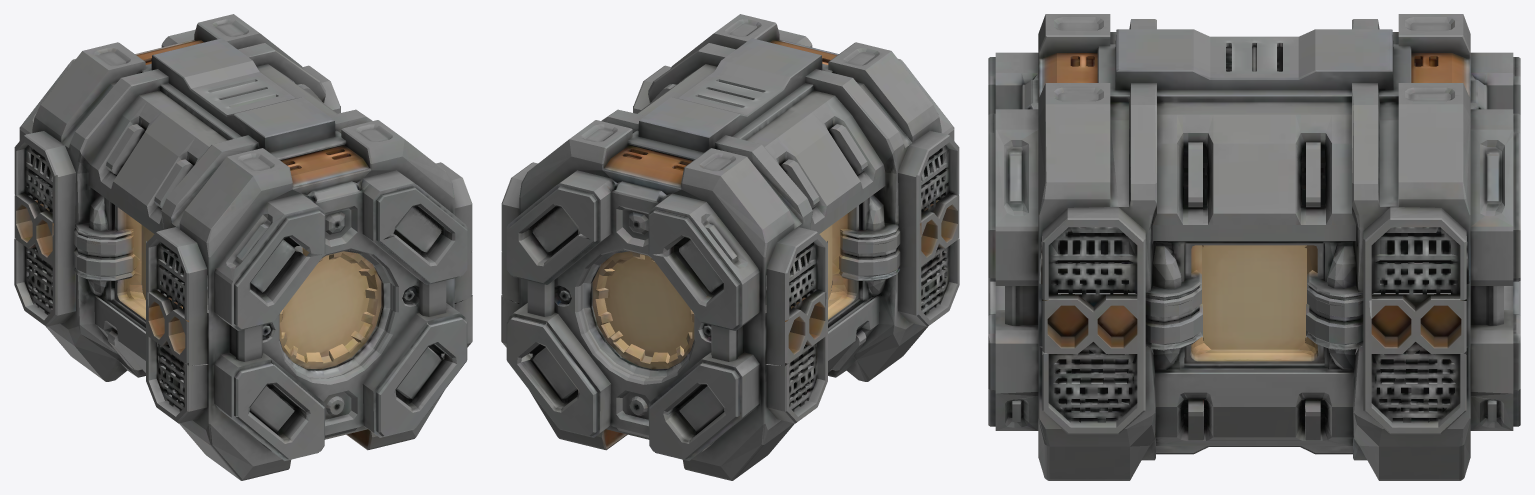
File: production_module_LOD0.glb
3 views of the same model, side by side, from view 1: azimuth 30°, elevation 25°; view 2: azimuth 150°, elevation 25°; view 3: azimuth 270°, elevation 25° (orthographic). The views are drawn at different scales.
Visible parts, largest first — view 1: production_module_LOD0; view 2: production_module_LOD0; view 3: production_module_LOD0.
Part boxes in pixels (x1,y1,x2,y2): production_module_LOD0: (14,14,472,480); production_module_LOD0: (501,14,959,480); production_module_LOD0: (988,14,1520,480).
Bounding box in the file's own units: 0.7573 × 0.7965 × 1.
1 material, 1 textured.
